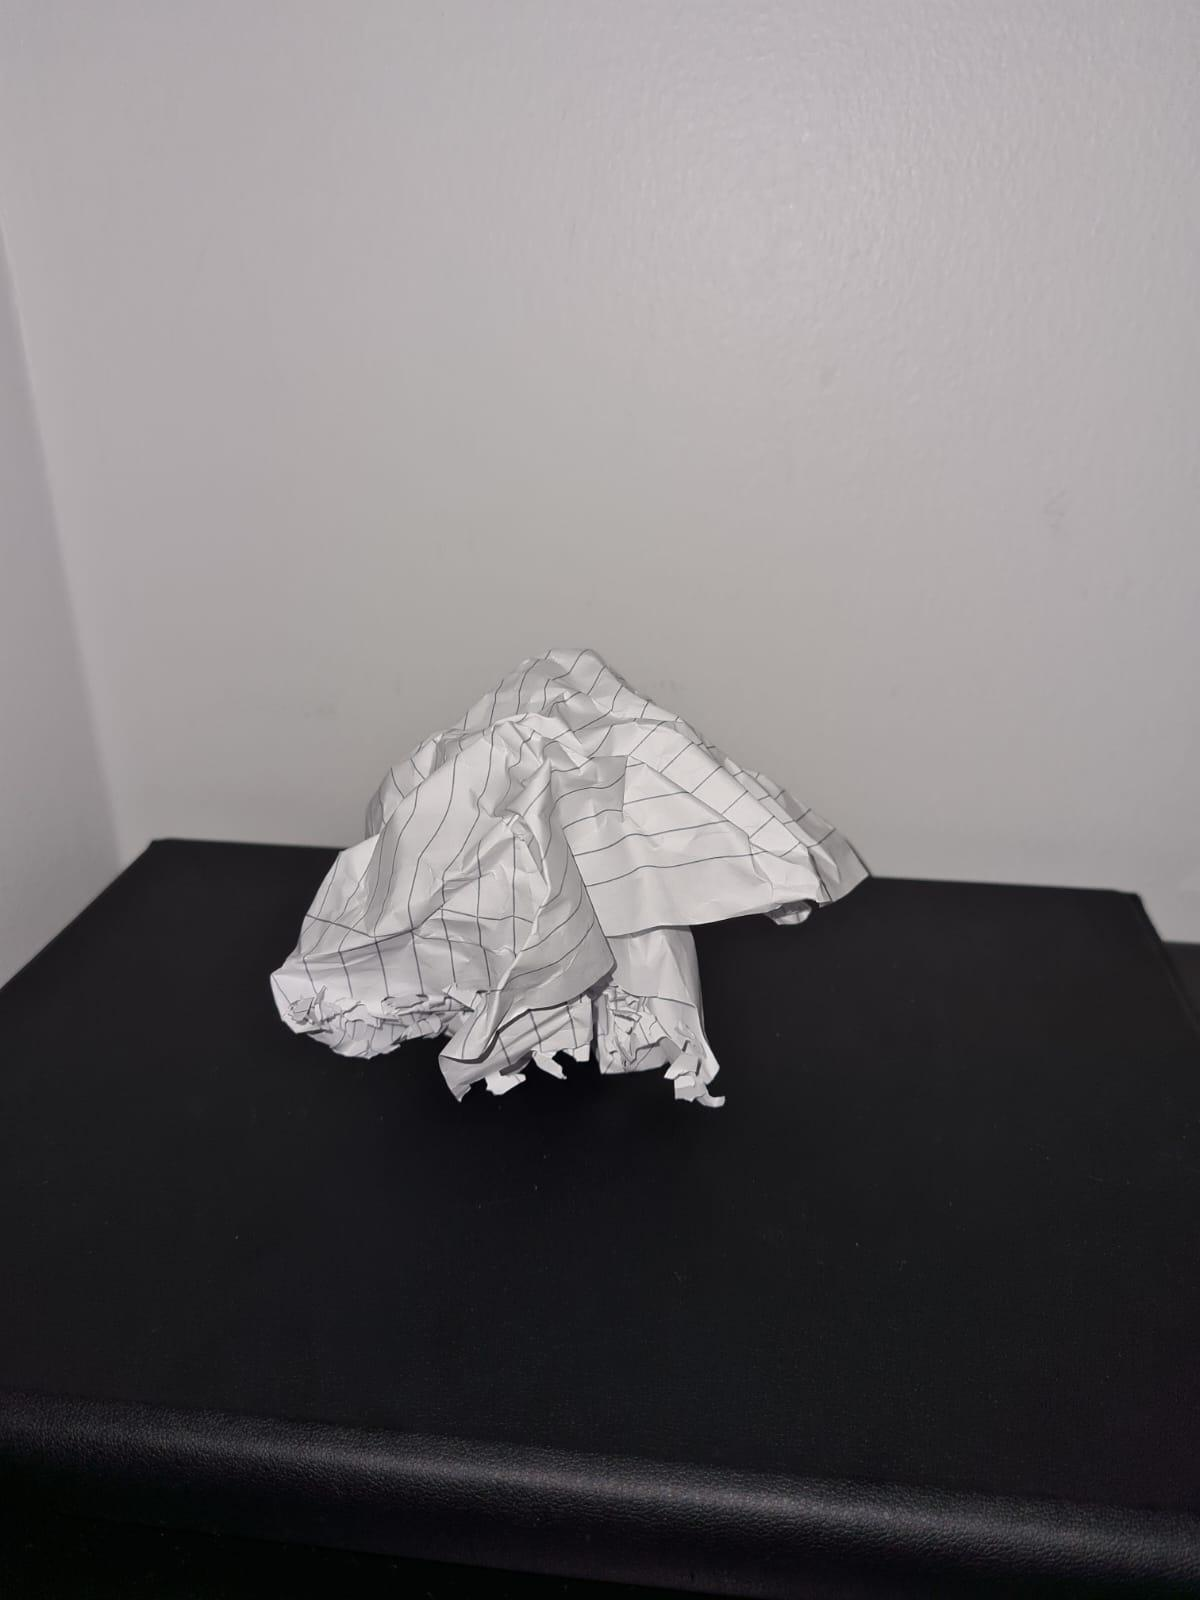Paper: (255, 677, 880, 1114)
